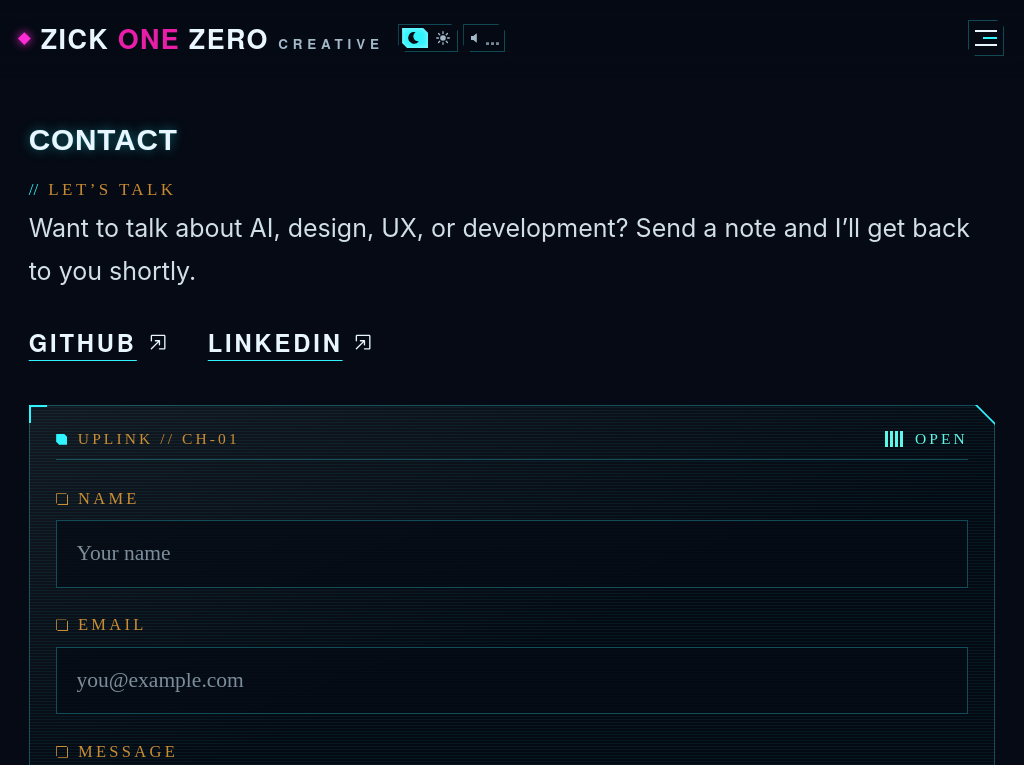
Scenario: ContactContent › shows a network error when the request cannot be made
In the field labelled "Name": (512,554) [56,520,968,588], type "Jane Doe"
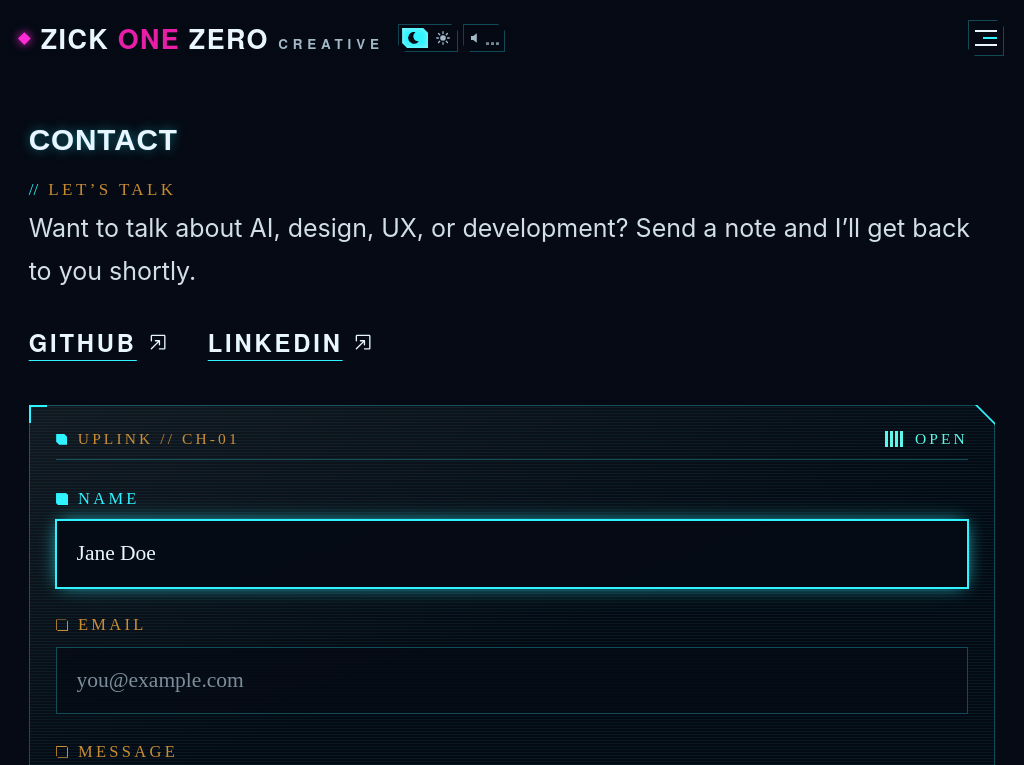
In the field labelled "Email": (512,680) [56,647,968,714], type "jane@example.com"
(page scrolled)
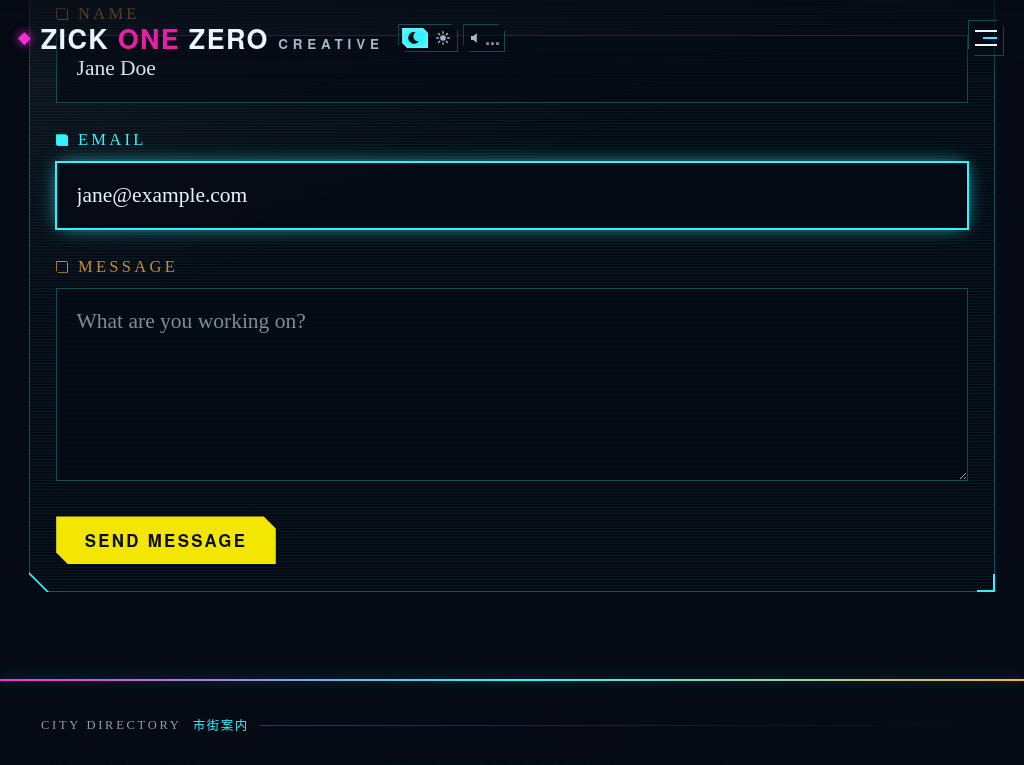
In the text box labelled "Message": (512,385) [56,288,968,482], type "Hello from the test suite."
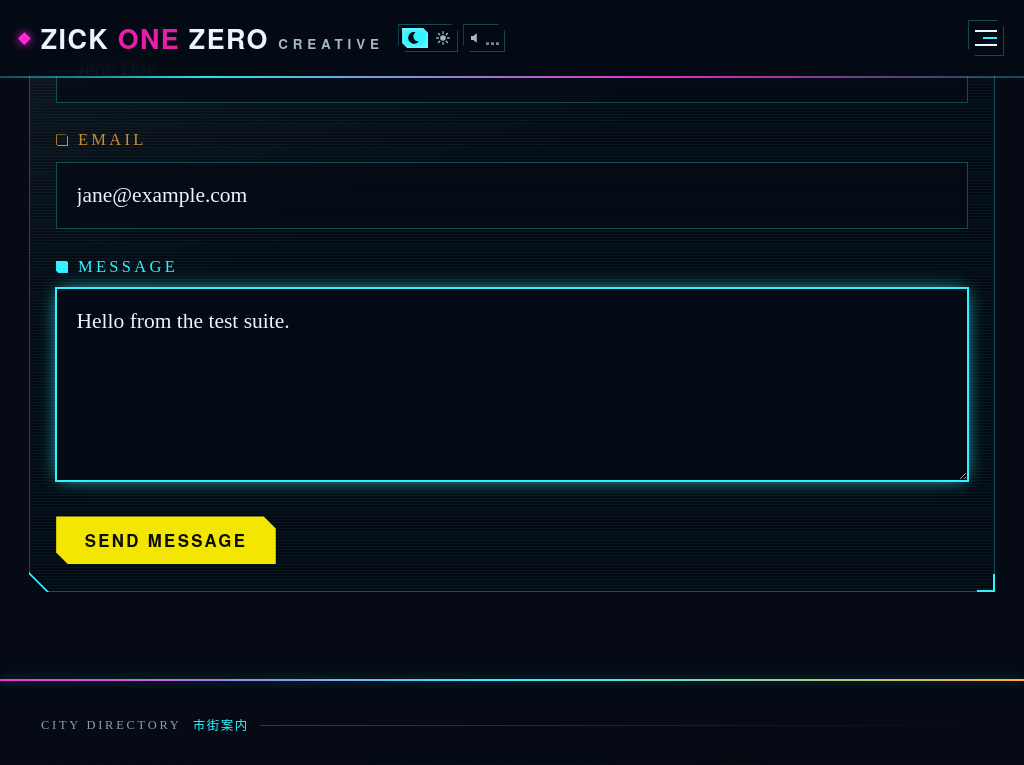
Click the button "Send message": (166,540) [56,516,276,564]
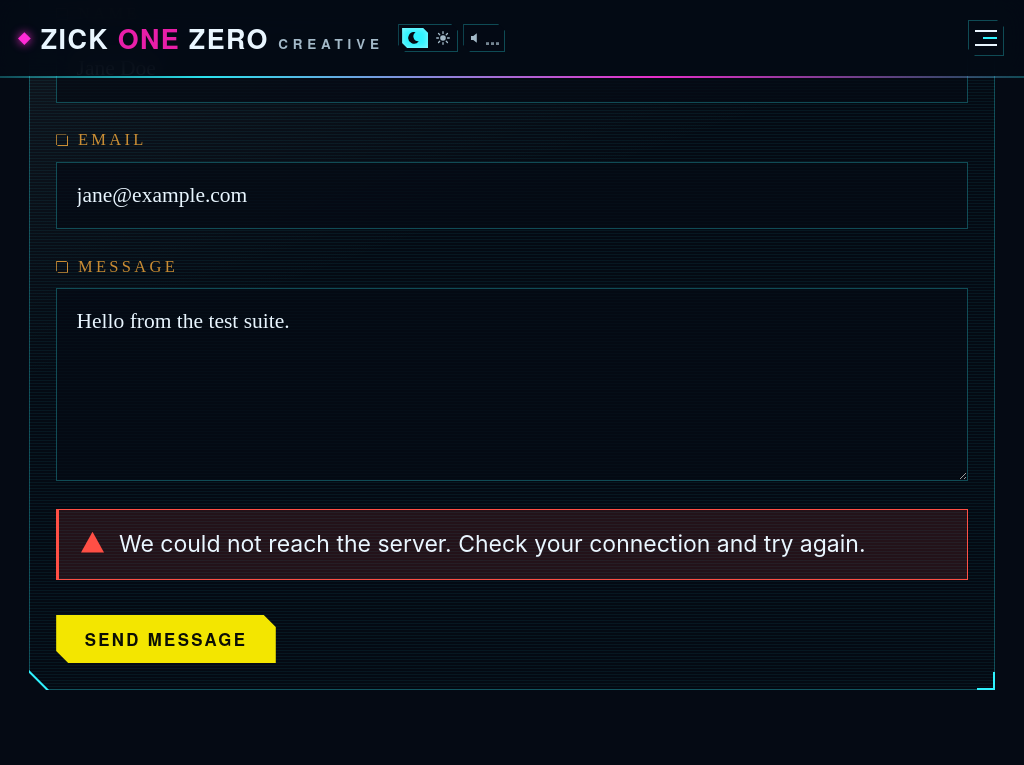
Expected: the message shows "could not reach the server", [119,530,866,558]
